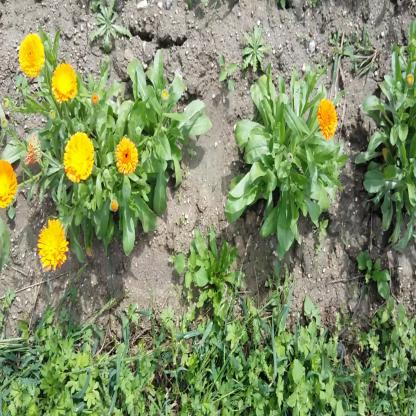marigold: (38, 219, 66, 271), (64, 132, 94, 180), (18, 34, 44, 77), (52, 64, 76, 102), (316, 97, 337, 137), (113, 136, 137, 171), (0, 160, 17, 208)
